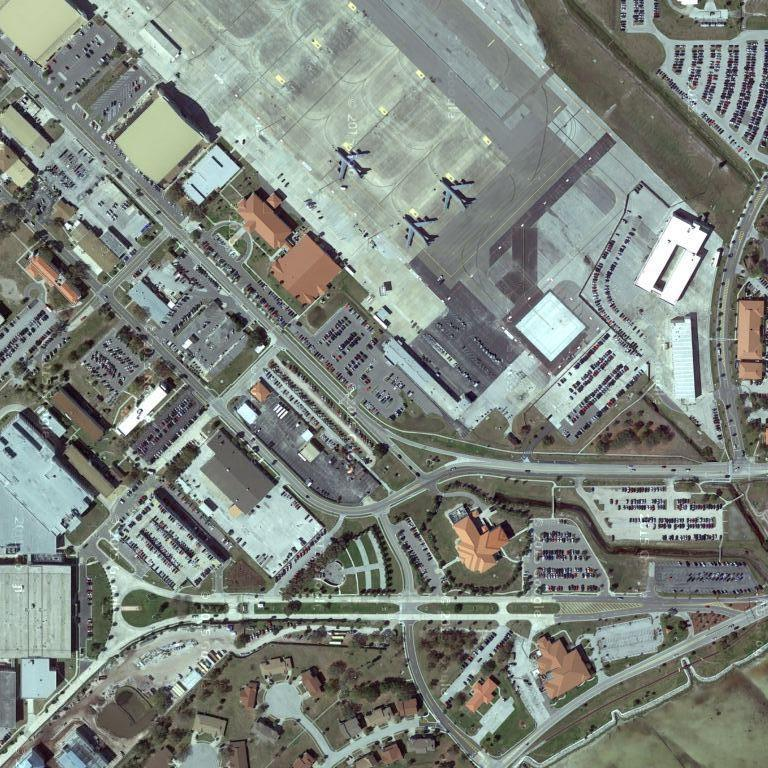KC-135: (400, 208, 443, 250), (333, 143, 375, 184), (438, 175, 478, 212)
